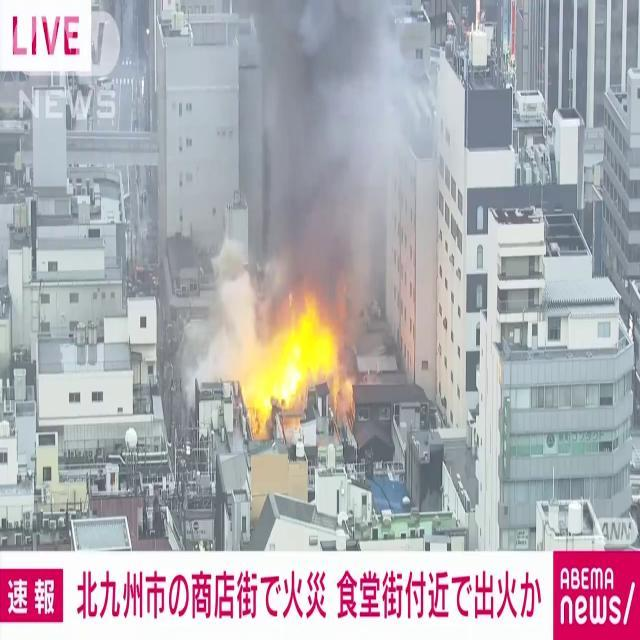Fire: (238, 290, 352, 426)
Smoke: (239, 0, 427, 312)
